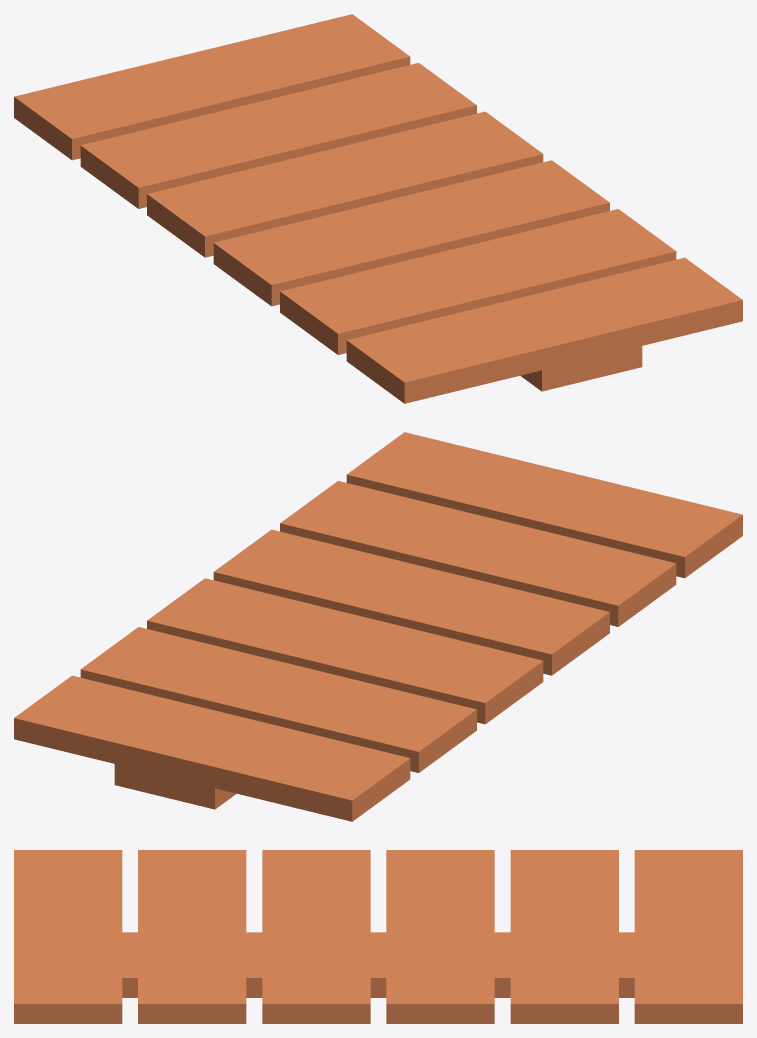
File: planksHalf.fbx
The picture shows the model from 3 angles, top to bottom: view 1: azimuth 30°, elevation 25°; view 2: azimuth 150°, elevation 25°; view 3: azimuth 270°, elevation 25°; orthographic projection. The views are drawn at different scales.
Visible parts, largest first — view 1: planks; view 2: planks; view 3: planks.
Boxes of the visible parts, x1,y1,x2,y2 form: planks: (14,14,742,403); planks: (14,432,742,821); planks: (14,850,742,1023).
Size of the model in its own units: 5 by 0.6 by 10.
